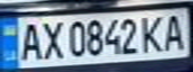0: (66, 17, 87, 57)
2: (118, 15, 142, 56)
4: (103, 16, 124, 56)
8: (84, 16, 106, 56)
A: (15, 19, 45, 62), (160, 11, 190, 52)
K: (139, 12, 169, 54)
X: (36, 18, 66, 61)
